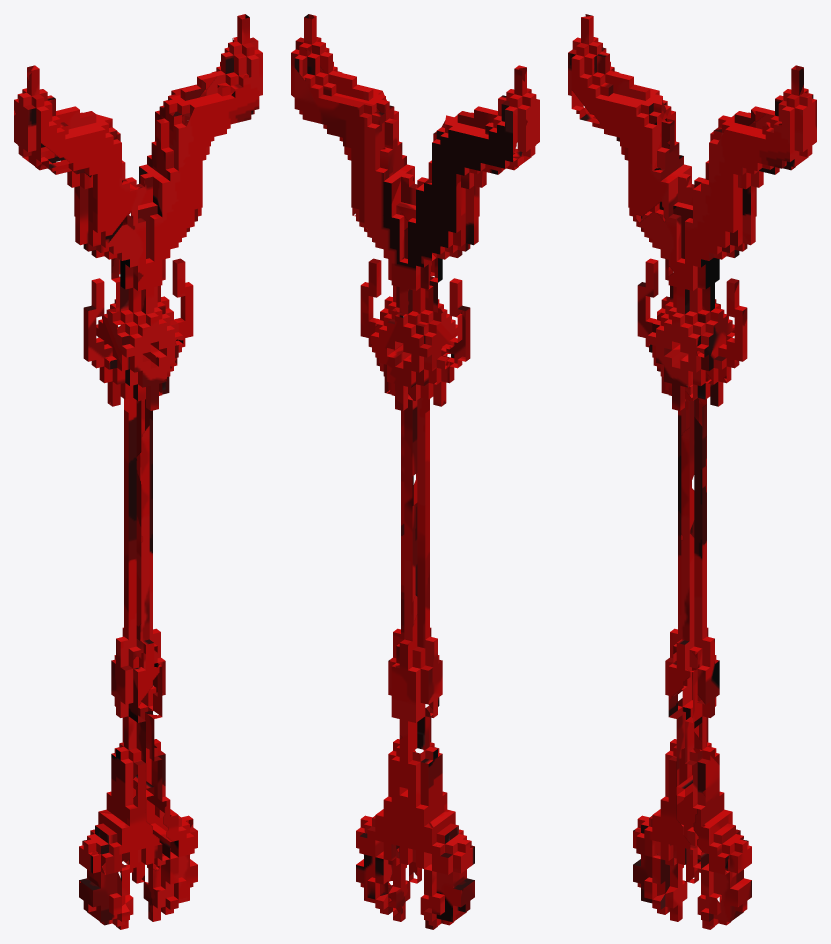
3 views of the same model, side by side, from view 1: azimuth 30°, elevation 25°; view 2: azimuth 150°, elevation 25°; view 3: azimuth 330°, elevation 25° (orthographic).
Visible parts, largest first — view 1: palka_p1_part1_fire.001; view 2: palka_p1_part1_fire.001; view 3: palka_p1_part1_fire.001.
Part boxes in pixels (bbox=[...]): palka_p1_part1_fire.001: bbox=[14, 14, 262, 929]; palka_p1_part1_fire.001: bbox=[291, 14, 539, 929]; palka_p1_part1_fire.001: bbox=[568, 14, 816, 929].
Size of the model in its own units: 2.9 by 10.4 by 0.7.
